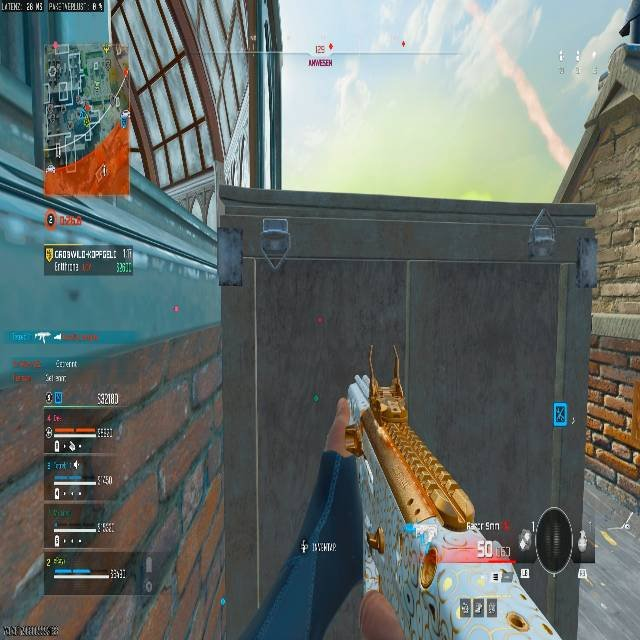player: (334, 67, 370, 135)
